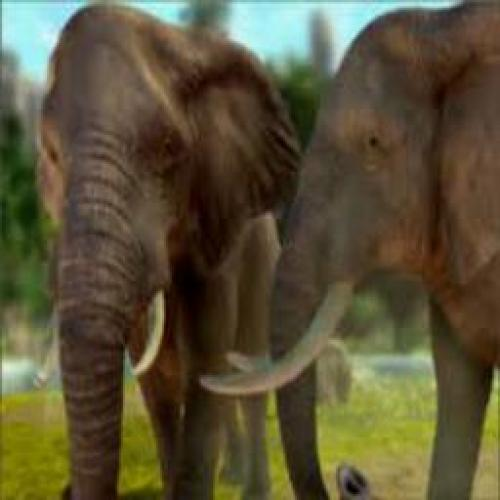african_elephant-endangered: (200, 0, 500, 500), (37, 0, 294, 500)
